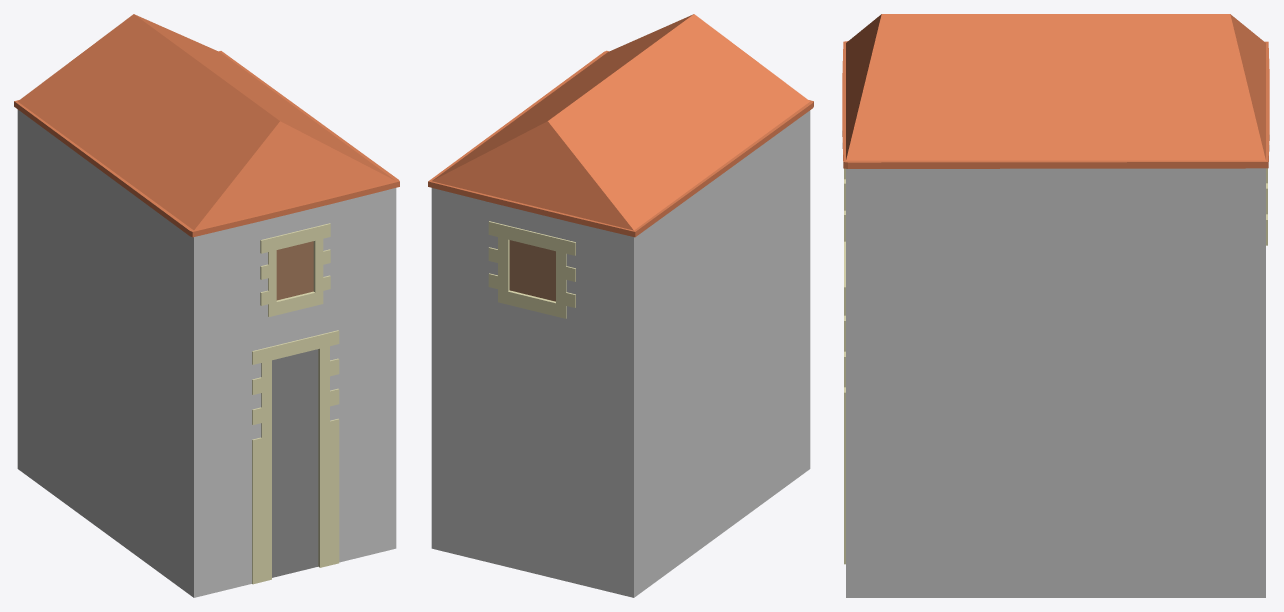
The model's file is 16_Casa_Benarrabal_Guillermo_Ramos.fbx.
3 renders of one model, left to right at view 1: azimuth 30°, elevation 25°; view 2: azimuth 150°, elevation 25°; view 3: azimuth 270°, elevation 25°, orthographic. The views are drawn at different scales.
Parts seen in each view (by area): view 1: House; view 2: House; view 3: House.
Boxes of the visible parts, x1,y1,x2,y2 form: House: [14, 14, 399, 597]; House: [428, 14, 813, 597]; House: [842, 14, 1269, 597].
Size of the model in its own units: 539 by 1086 by 801.
